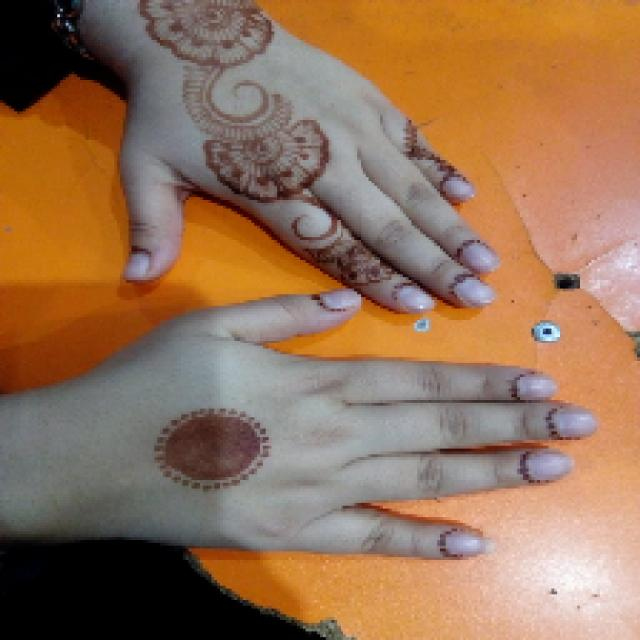Nail: (528, 451, 574, 481), (446, 531, 495, 556), (462, 242, 499, 274), (555, 409, 598, 436), (456, 279, 495, 308), (518, 375, 558, 399), (400, 288, 435, 313), (321, 289, 359, 309), (124, 252, 150, 281), (445, 176, 476, 200)
